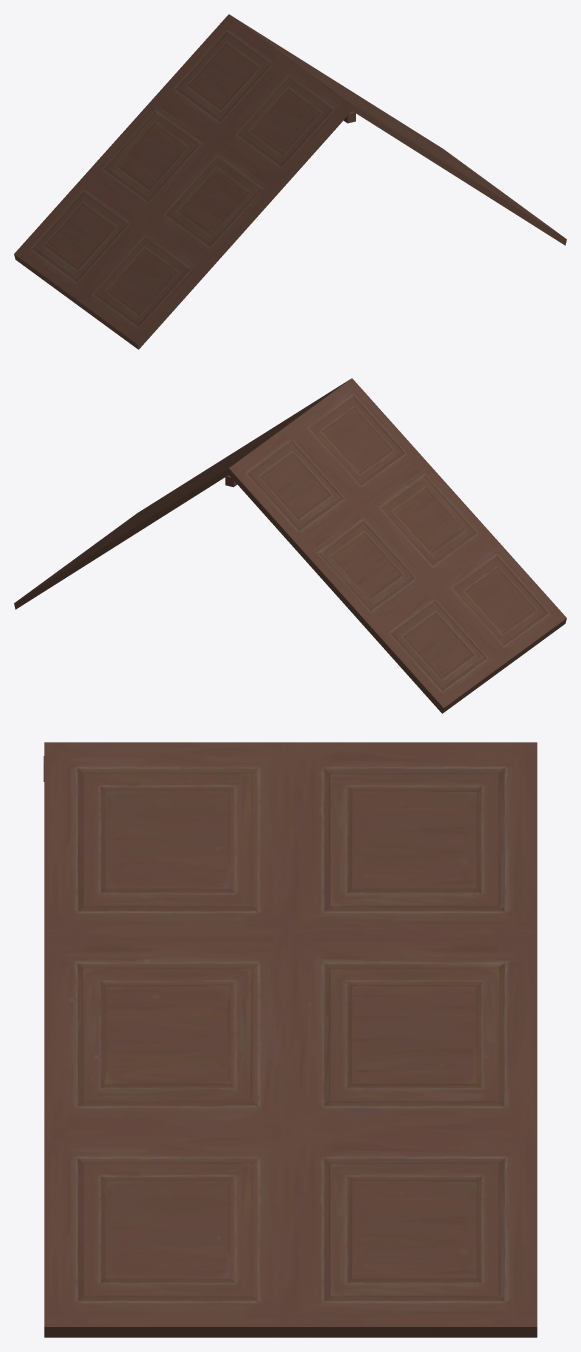
File: Homeworld_Interior_Md_Room_Ceiling_02_Vo.fbx
3 renders of one model, top to bottom at view 1: azimuth 30°, elevation 25°; view 2: azimuth 150°, elevation 25°; view 3: azimuth 270°, elevation 25°, orthographic. The views are drawn at different scales.
Visible parts, largest first — view 1: Homeworld_Interior_Md_Room_Ceiling_02_Vo; view 2: Homeworld_Interior_Md_Room_Ceiling_02_Vo; view 3: Homeworld_Interior_Md_Room_Ceiling_02_Vo.
Part boxes in pixels (x1,y1,x2,y2): Homeworld_Interior_Md_Room_Ceiling_02_Vo: (14, 14, 566, 349); Homeworld_Interior_Md_Room_Ceiling_02_Vo: (14, 378, 566, 713); Homeworld_Interior_Md_Room_Ceiling_02_Vo: (43, 742, 537, 1337).
Bounding box in the file's own units: 10.07 × 4.34 × 5.01.
